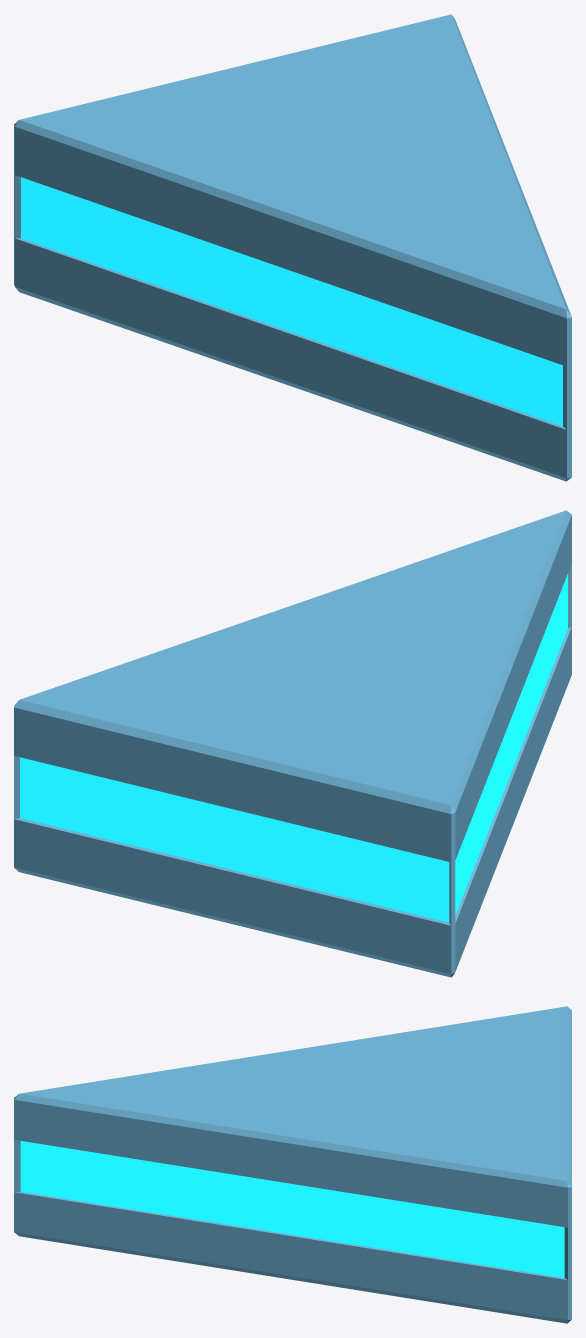
Rendered from triangle_shape.fbx.
3 renders of one model, top to bottom at view 1: azimuth 30°, elevation 25°; view 2: azimuth 150°, elevation 25°; view 3: azimuth 270°, elevation 25°, orthographic. The views are drawn at different scales.
Visible parts, largest first — view 1: Cylinder; view 2: Cylinder; view 3: Cylinder.
Boxes of the visible parts, <box> form: Cylinder: <box>14,14,571,481</box>; Cylinder: <box>14,510,571,977</box>; Cylinder: <box>14,1006,571,1323</box>.
Size of the model in its own units: 112 by 42 by 149.
